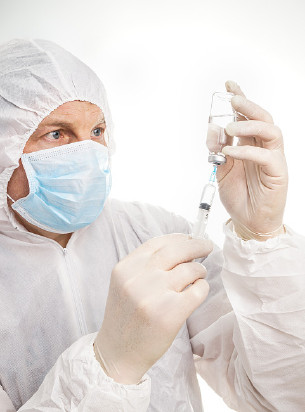face_mask: (16, 103, 106, 232)
